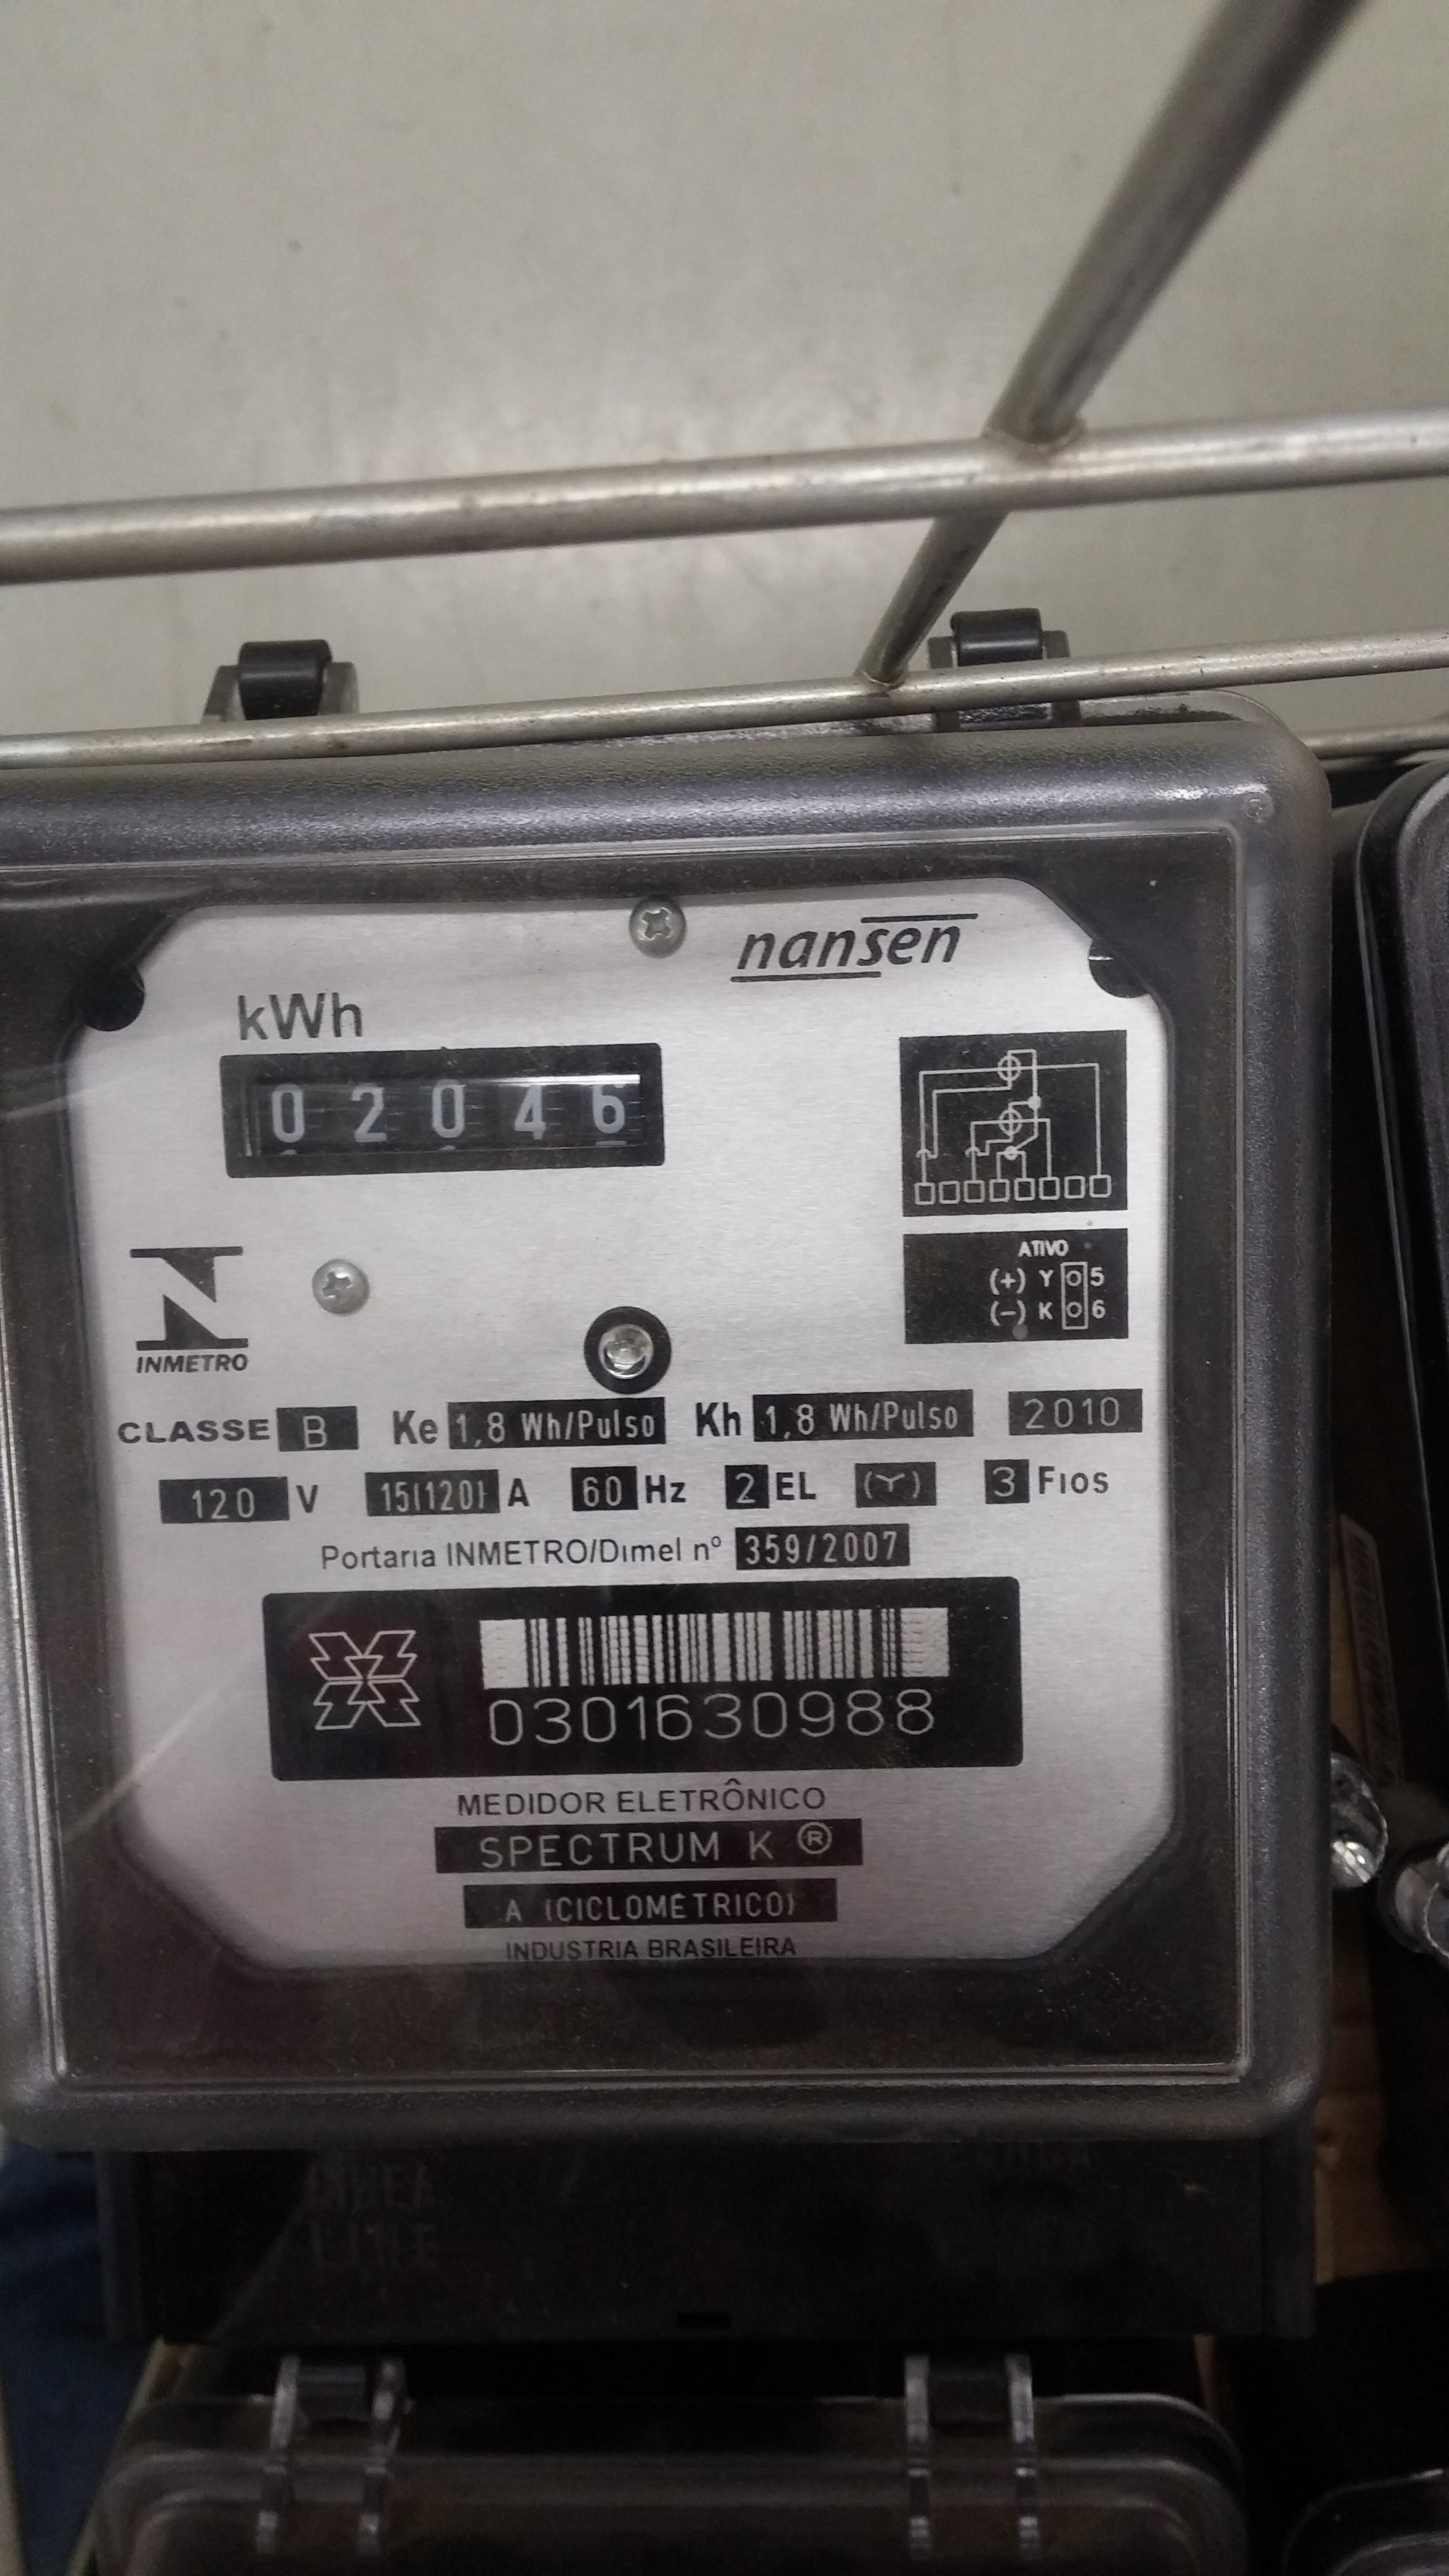counter3: (214, 1047, 695, 1191)
